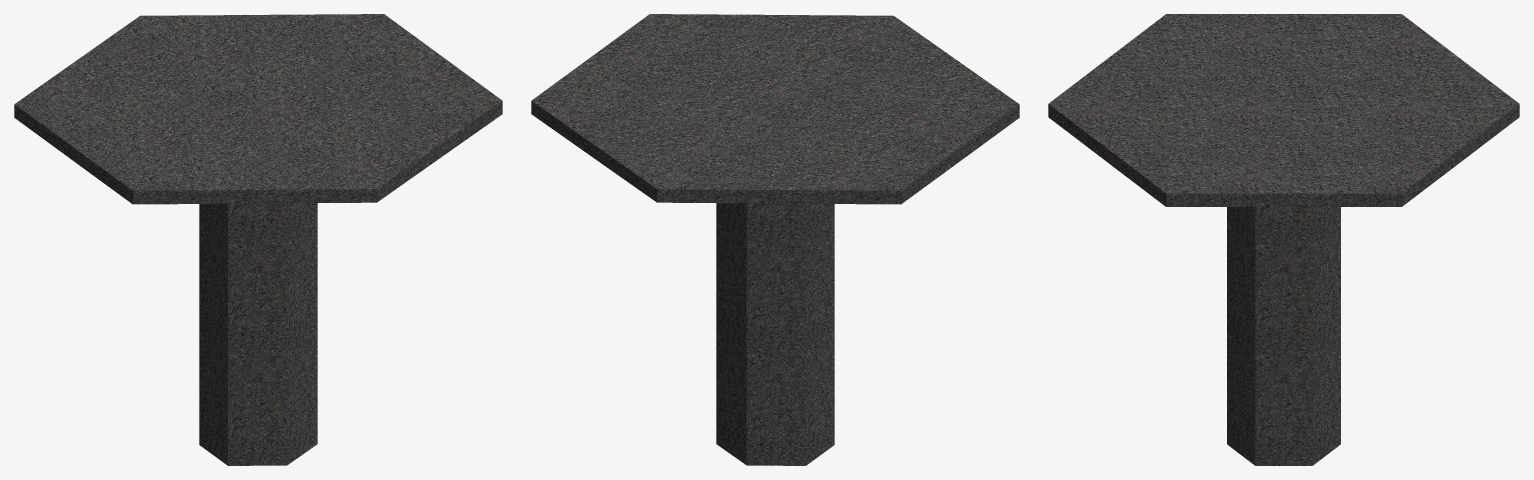
The model's file is space-table.dae.
The picture shows the model from 3 angles, left to right: view 1: azimuth 30°, elevation 25°; view 2: azimuth 150°, elevation 25°; view 3: azimuth 270°, elevation 25°; orthographic projection.
Visible parts, largest first — view 1: SketchUp, SketchUp_001; view 2: SketchUp, SketchUp_001; view 3: SketchUp, SketchUp_001.
Boxes of the visible parts, x1=… form: SketchUp: x1=14, y1=14, x2=502, y2=204; SketchUp_001: x1=199, y1=203, x2=317, y2=465; SketchUp: x1=531, y1=14, x2=1019, y2=204; SketchUp_001: x1=716, y1=203, x2=834, y2=465; SketchUp: x1=1048, y1=14, x2=1519, y2=206; SketchUp_001: x1=1227, y1=207, x2=1340, y2=465.
Size of the model in its own units: 1.07 by 1.18 by 0.9424.
Materials: 1 (1 with a texture image).
